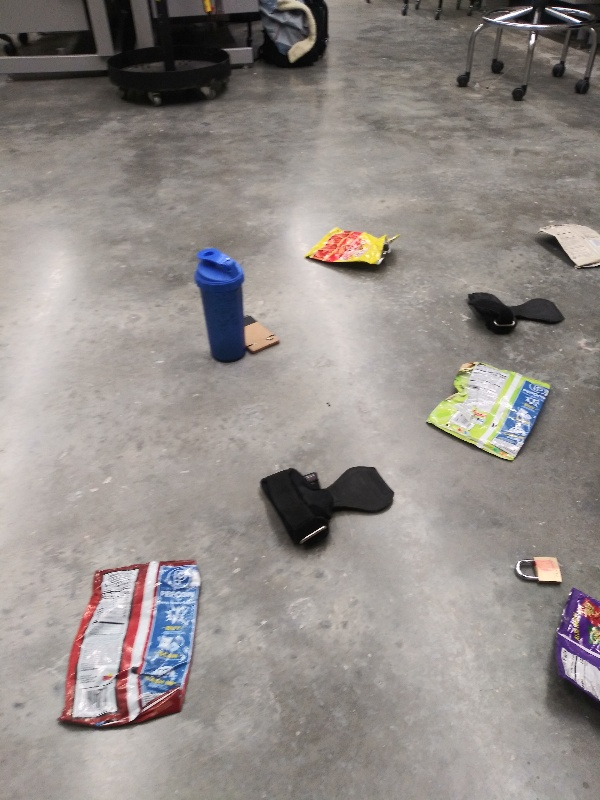bag: (53, 554, 209, 735), (422, 358, 558, 463), (546, 584, 600, 704), (303, 224, 401, 273), (532, 220, 600, 274)
